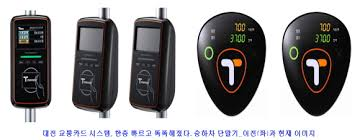terminal: (7, 13, 55, 110)
